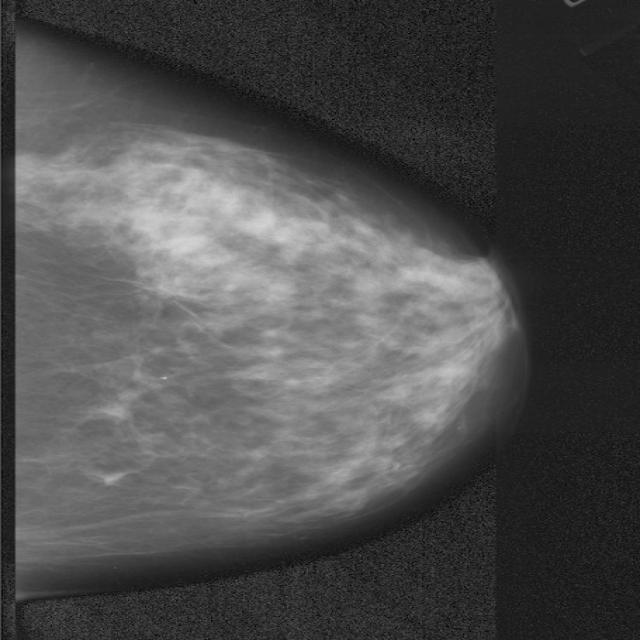tumour: (135, 271, 191, 302)
